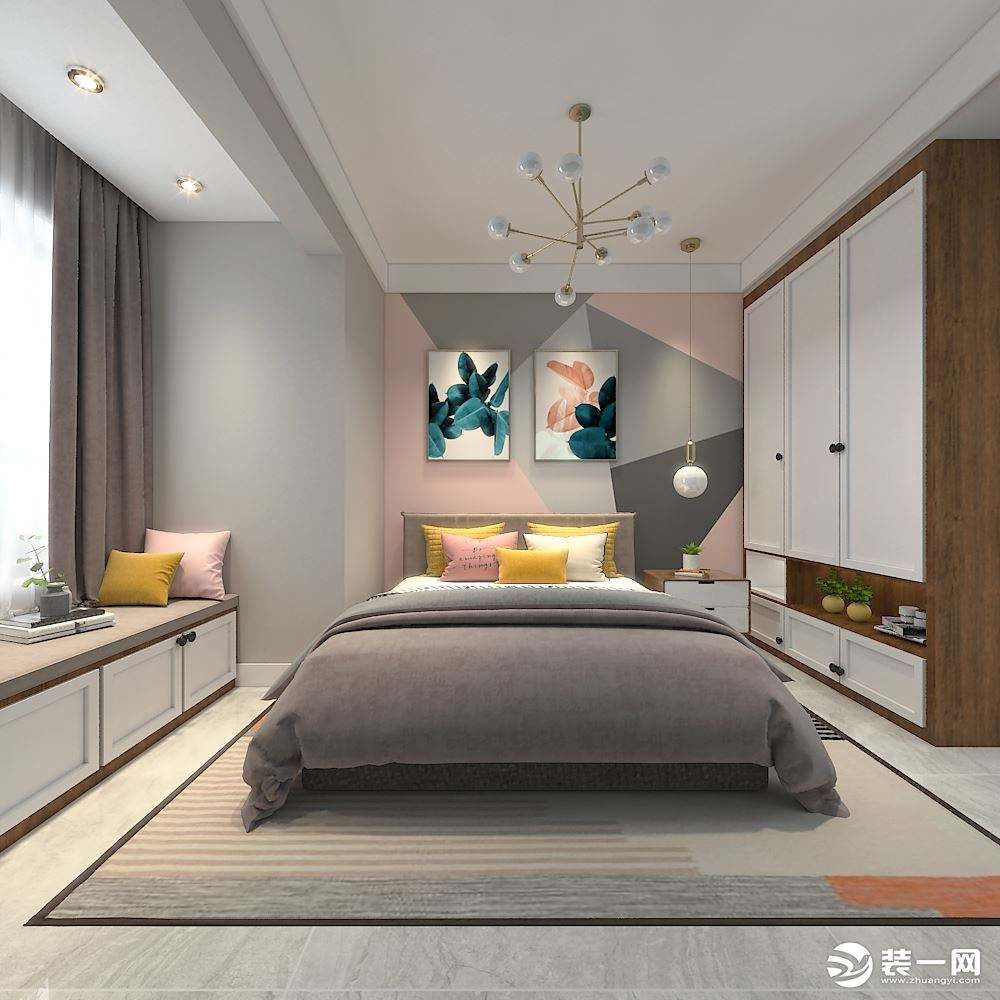床: (239, 583, 816, 829)
枕头: (417, 522, 621, 585), (91, 537, 229, 608)
灯: (492, 89, 678, 311), (664, 232, 714, 506), (61, 67, 106, 92), (169, 175, 200, 199)
